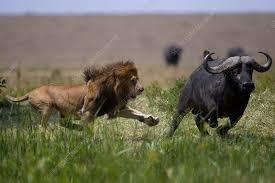Buffalo: (167, 39, 275, 161), (1, 58, 2, 66)
lions: (7, 55, 157, 137)
